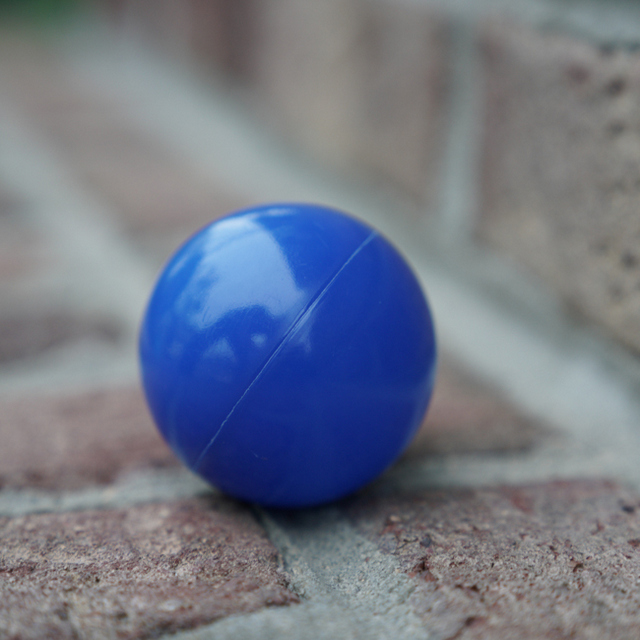Ball: (138, 202, 438, 502)
